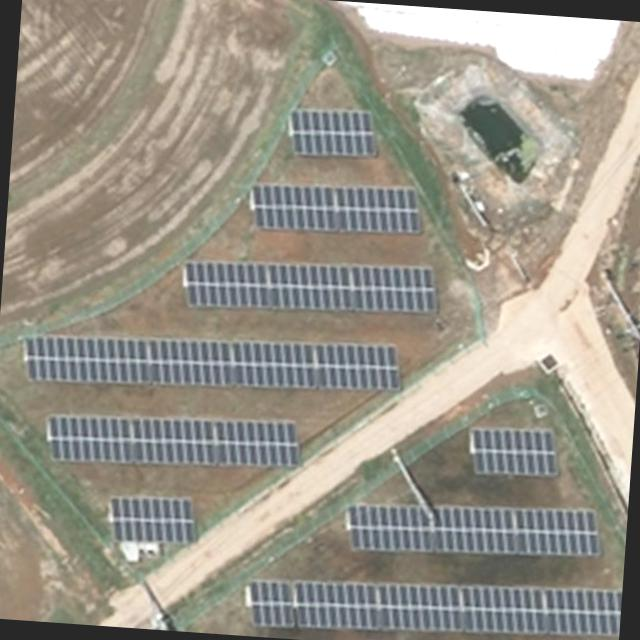solar: (15, 316, 402, 411), (292, 563, 621, 640), (171, 247, 441, 330), (32, 400, 305, 481), (338, 490, 606, 571), (246, 178, 427, 245), (462, 420, 563, 486), (100, 488, 202, 551), (284, 102, 381, 164), (239, 574, 300, 633)
